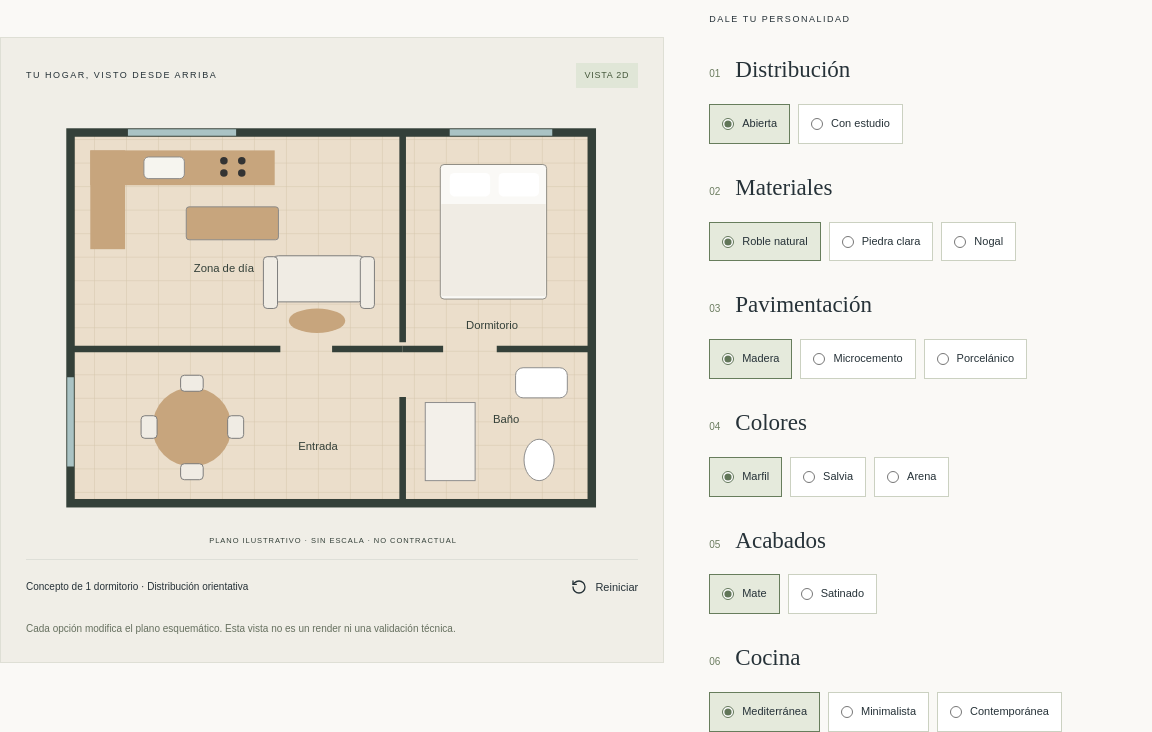
Demo flows › reflects configurator choices in the accessible 2D preview
Click the radio button labelled "Con estudio" at (817, 124), box top-left (811, 118), bottom-right (823, 130)
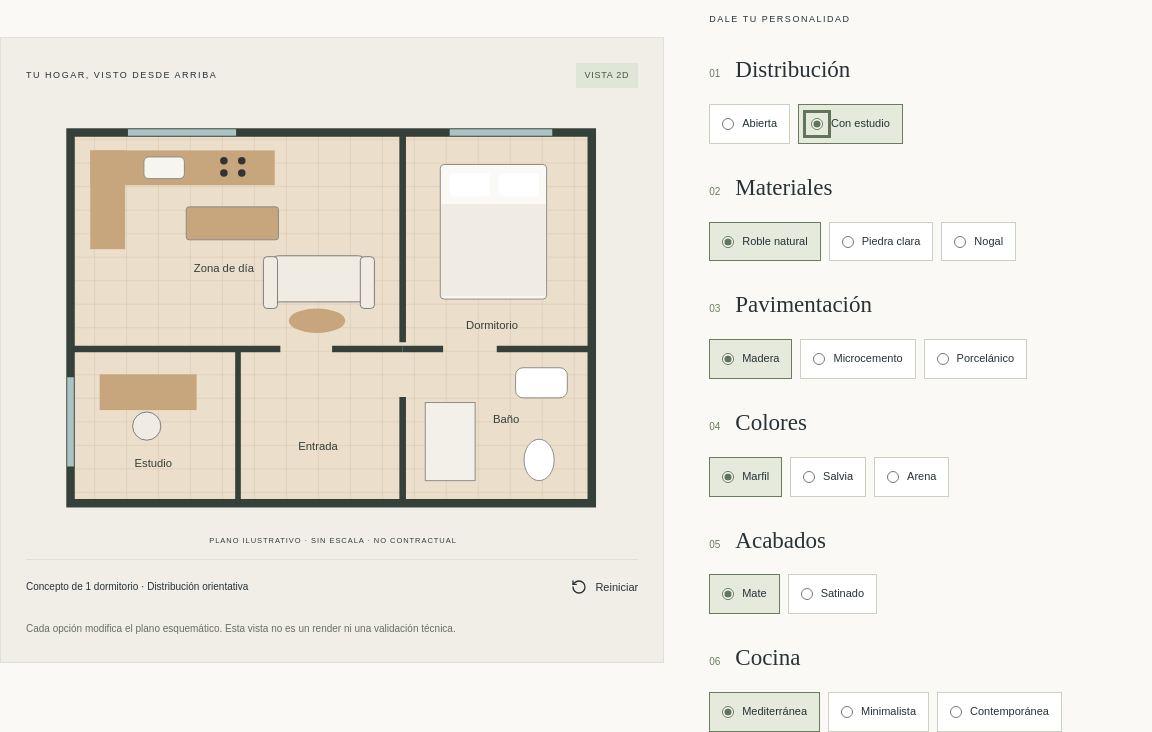
Click the radio button labelled "Salvia" at (809, 477), box top-left (803, 471), bottom-right (815, 483)
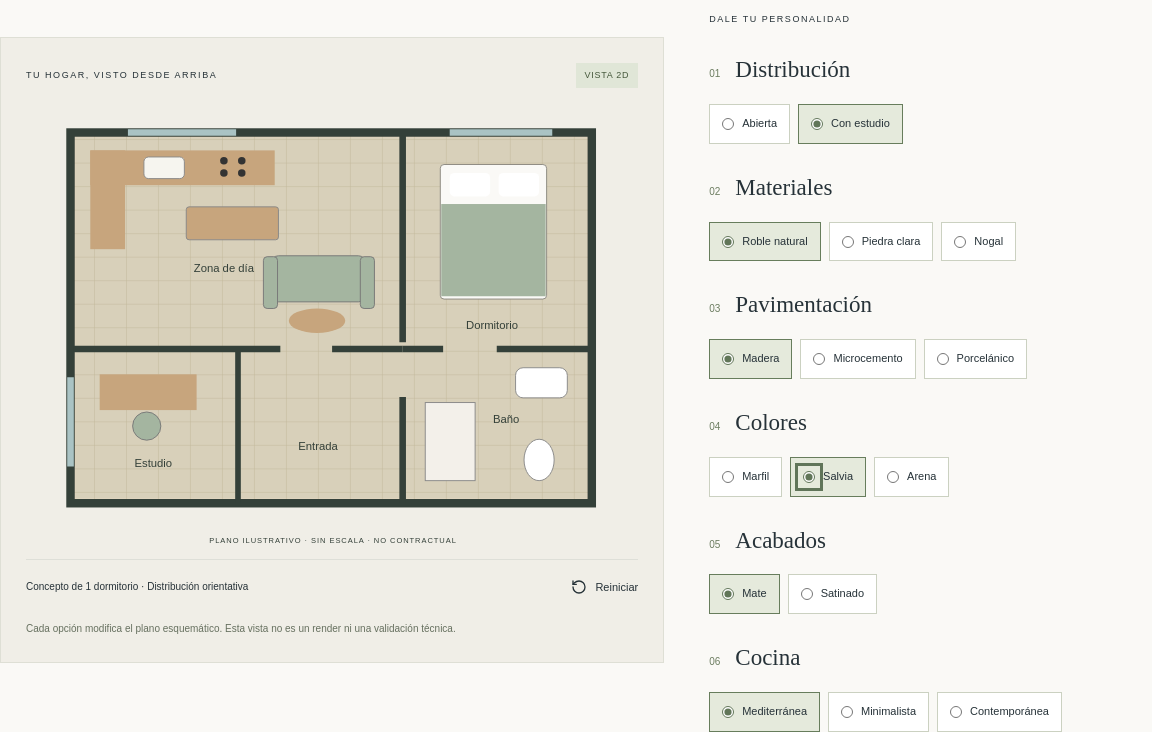
Click the button "Reiniciar" at (605, 587), box top-left (571, 578), bottom-right (638, 596)
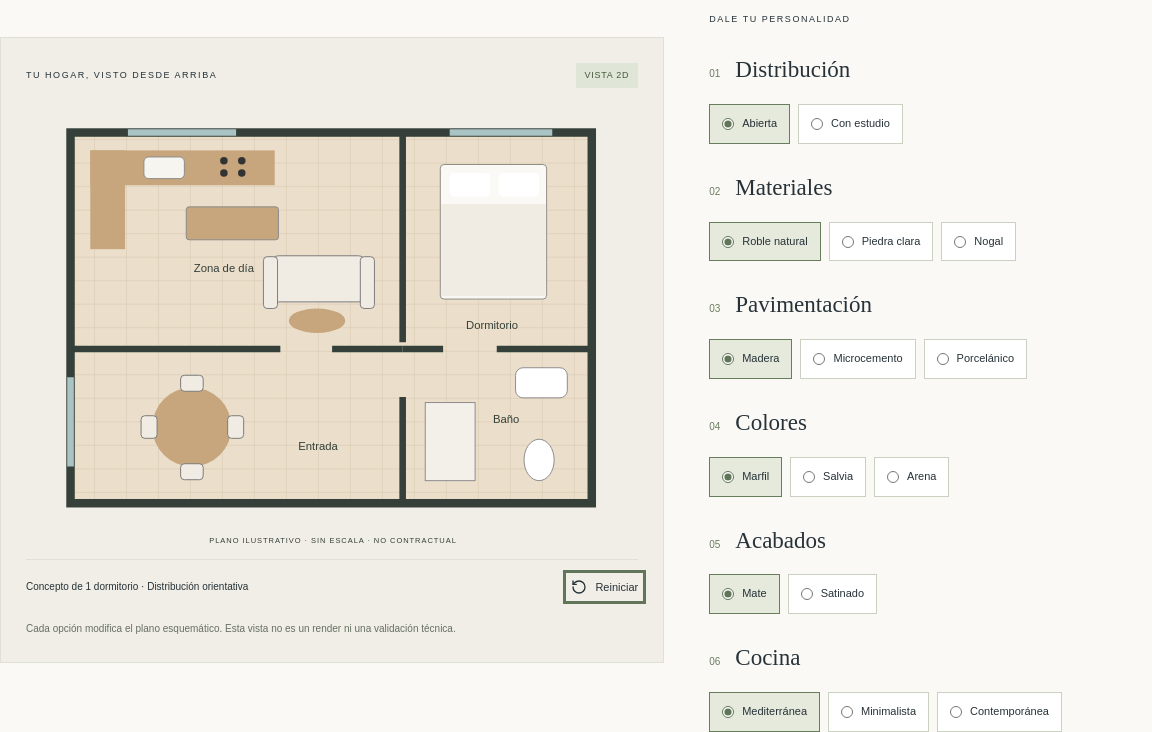
Result: the radio button labelled "Abierta" is checked at top-left (722, 118), bottom-right (734, 130)
